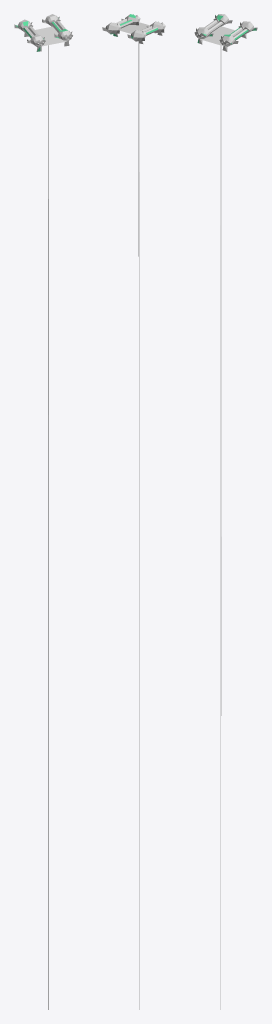
Rendered from floaty05.fbx.
3 views of the same model, side by side, from view 1: azimuth 30°, elevation 25°; view 2: azimuth 150°, elevation 25°; view 3: azimuth 330°, elevation 25° (orthographic).
Parts seen in each view (by area): view 1: Suzanne, Cylinder.001; view 2: Cylinder.001, Suzanne; view 3: Cylinder.001, Suzanne.
Boxes of the visible parts, x1,y1,x2,y2 form: Suzanne: [14, 14, 72, 51]; Cylinder.001: [48, 45, 48, 1009]; Cylinder.001: [138, 43, 139, 1009]; Suzanne: [102, 14, 165, 43]; Cylinder.001: [220, 45, 221, 1009]; Suzanne: [194, 14, 257, 51].
Size of the model in its own units: 2181 by 43446 by 1934.
